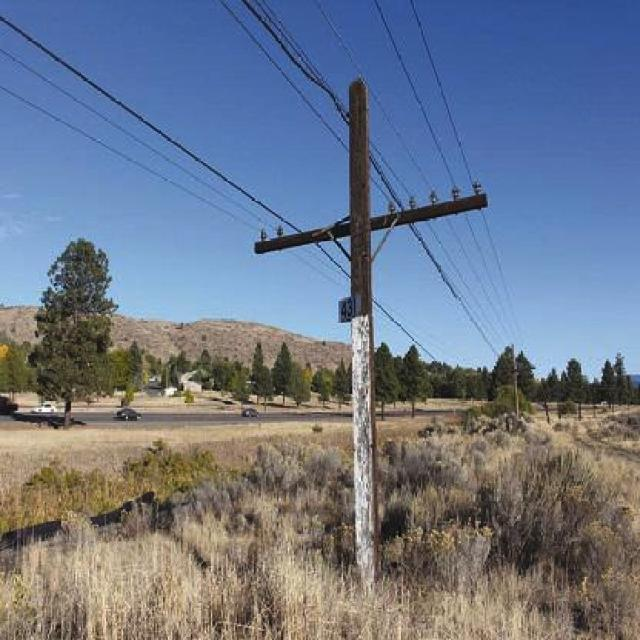crossarm: (252, 183, 488, 255)
pole: (346, 78, 377, 599)
wire: (1, 11, 439, 362), (239, 0, 495, 352), (0, 45, 349, 282), (0, 84, 349, 294), (312, 0, 508, 334), (371, 0, 502, 301), (217, 0, 393, 202), (409, 0, 509, 299)
